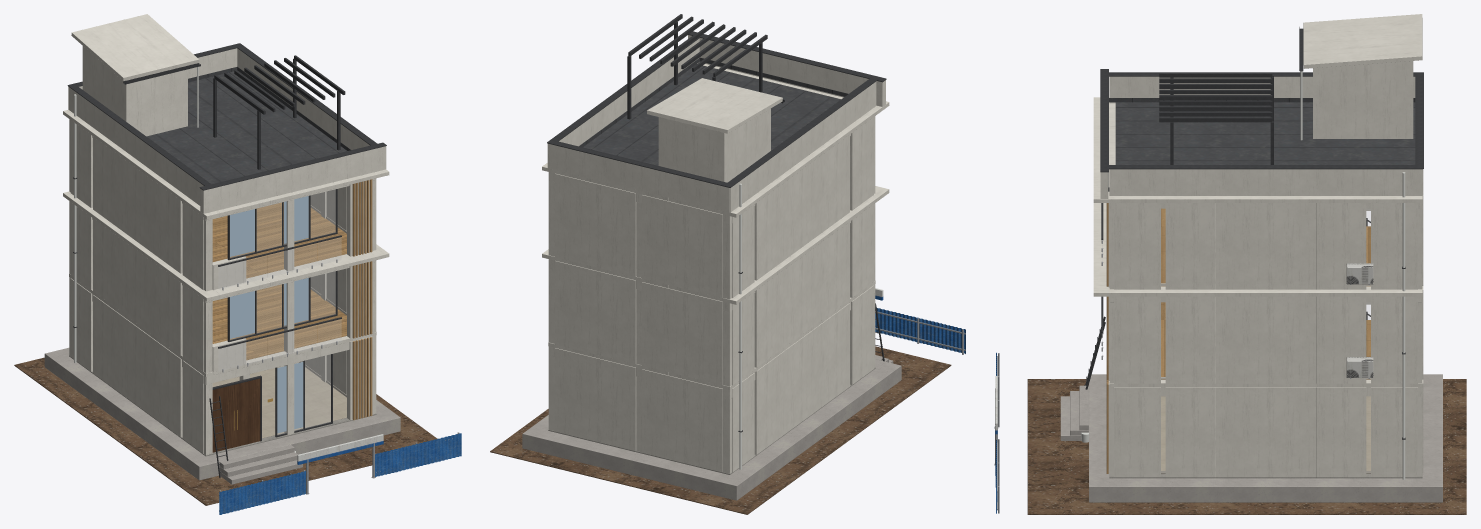
The model's file is phase-5.glb.
3 renders of one model, left to right at view 1: azimuth 30°, elevation 25°; view 2: azimuth 150°, elevation 25°; view 3: azimuth 270°, elevation 25°, orthographic. The views are drawn at different scales.
Visible parts, largest first — view 1: RoofMembrane_1, Podium_1, Ground_1, Render_46, StairLid_1, Floor_2, Floor_3, Render_45, Slab_3, Render_3, Render_16, Render_30 (+66 smaller); view 2: Podium_1, Ground_1, Render_12, Render_39, Render_25, Render_11, Render_24, Render_38, RoofMembrane_1, Render_46, Render_42, StairLid_1 (+35 smaller); view 3: Ground_1, RoofMembrane_1, Podium_1, Render_4, Render_17, Render_31, Render_44, Render_46, StairLid_1, Render_2, Render_6, Render_19 (+34 smaller).
Part boxes in pixels (box(x1,y1,x2,y2)): RoofMembrane_1: box(146, 70, 347, 184); Podium_1: box(44, 347, 400, 480); Ground_1: box(14, 357, 437, 505); Render_46: box(82, 46, 187, 136); StairLid_1: box(71, 14, 199, 80); Floor_2: box(212, 284, 346, 360); Floor_3: box(212, 202, 346, 278); Render_45: box(200, 146, 386, 213); Slab_3: box(63, 191, 389, 301); Render_3: box(115, 311, 158, 421); Render_16: box(115, 234, 158, 339); Render_30: box(115, 153, 158, 257); Podium_1: box(522, 359, 901, 500); Ground_1: box(490, 346, 951, 514); Render_12: box(555, 348, 636, 451); Render_39: box(555, 173, 636, 276); Render_25: box(555, 261, 636, 363); Render_11: box(642, 369, 722, 472); Render_24: box(642, 282, 722, 385); Render_38: box(642, 195, 722, 297); RoofMembrane_1: box(583, 64, 840, 165); Render_46: box(658, 108, 770, 182); Render_42: box(548, 143, 729, 212); StairLid_1: box(647, 78, 782, 133); Ground_1: box(1027, 379, 1466, 514); RoofMembrane_1: box(1115, 102, 1415, 164); Podium_1: box(1089, 374, 1442, 502); Render_4: box(1216, 387, 1315, 477); Render_17: box(1216, 296, 1315, 383); Render_31: box(1216, 203, 1315, 289); Render_44: box(1109, 169, 1422, 195); Render_46: box(1313, 61, 1413, 138); StairLid_1: box(1303, 14, 1422, 68); Render_2: box(1316, 387, 1366, 477); Render_6: box(1165, 387, 1215, 477); Render_19: box(1165, 296, 1215, 383).
Size of the model in its own units: 10.2 by 13.63 by 15.07.
21 materials, 21 textured.
